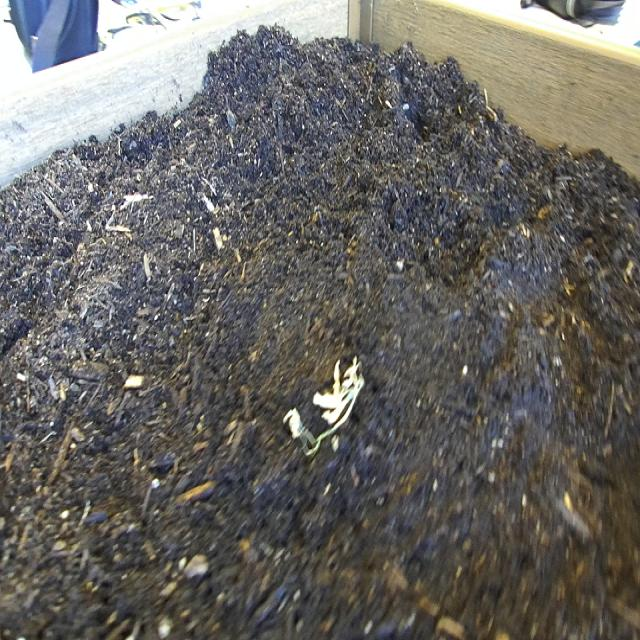Unhealthy: (295, 344, 373, 467)
